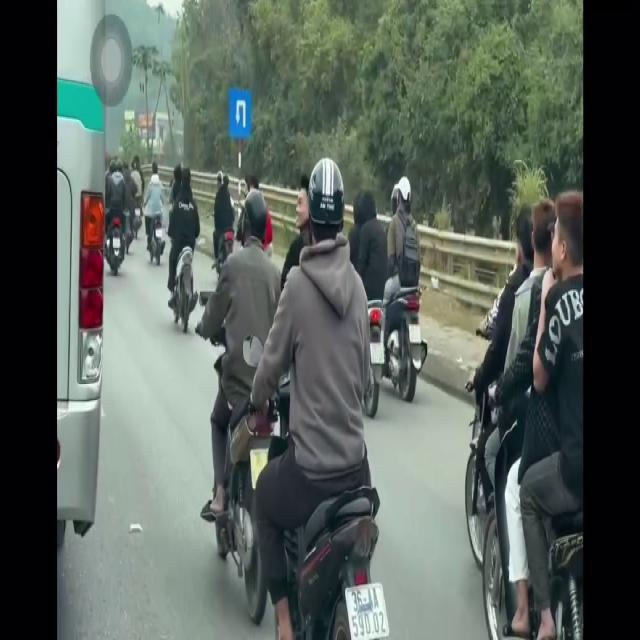helmet: (307, 152, 344, 264), (240, 186, 268, 271), (396, 167, 413, 219)
